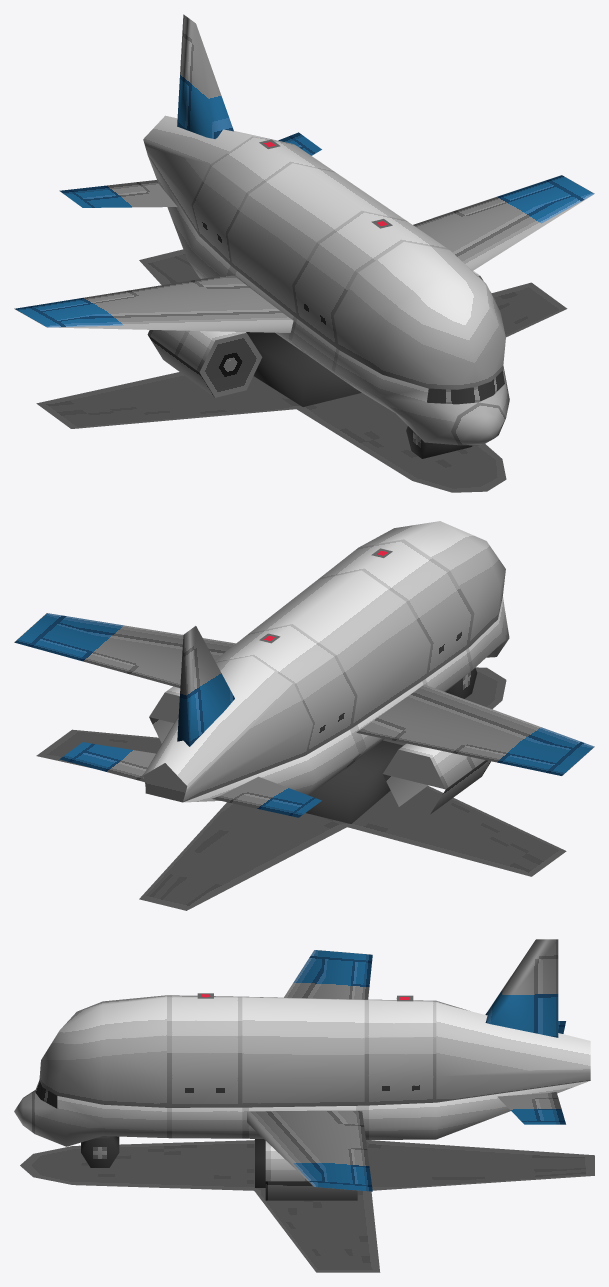
3 views of the same model, one above another, from view 1: azimuth 30°, elevation 25°; view 2: azimuth 150°, elevation 25°; view 3: azimuth 270°, elevation 25° (orthographic). The views are drawn at different scales.
Parts seen in each view (by area): view 1: c6_plan_01; view 2: c6_plan_01; view 3: c6_plan_01.
Boxes of the visible parts, left/top/right/bottom form: c6_plan_01: left=14, top=14, right=594, bottom=492; c6_plan_01: left=14, top=521, right=594, bottom=910; c6_plan_01: left=14, top=939, right=594, bottom=1272.
Bounding box in the file's own units: 139 × 61.98 × 144.
